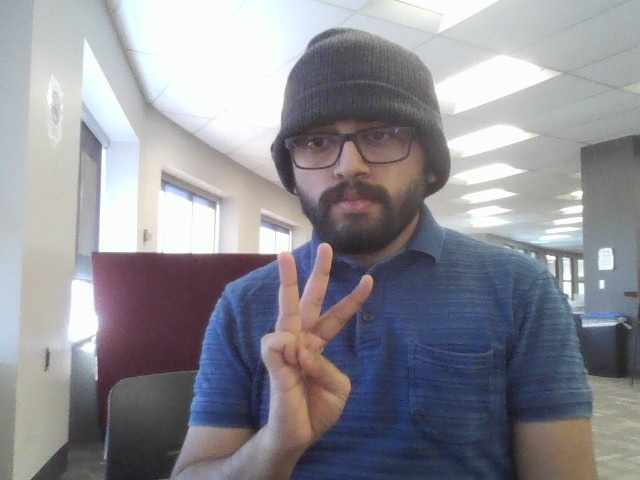start: (244, 238, 382, 458)
